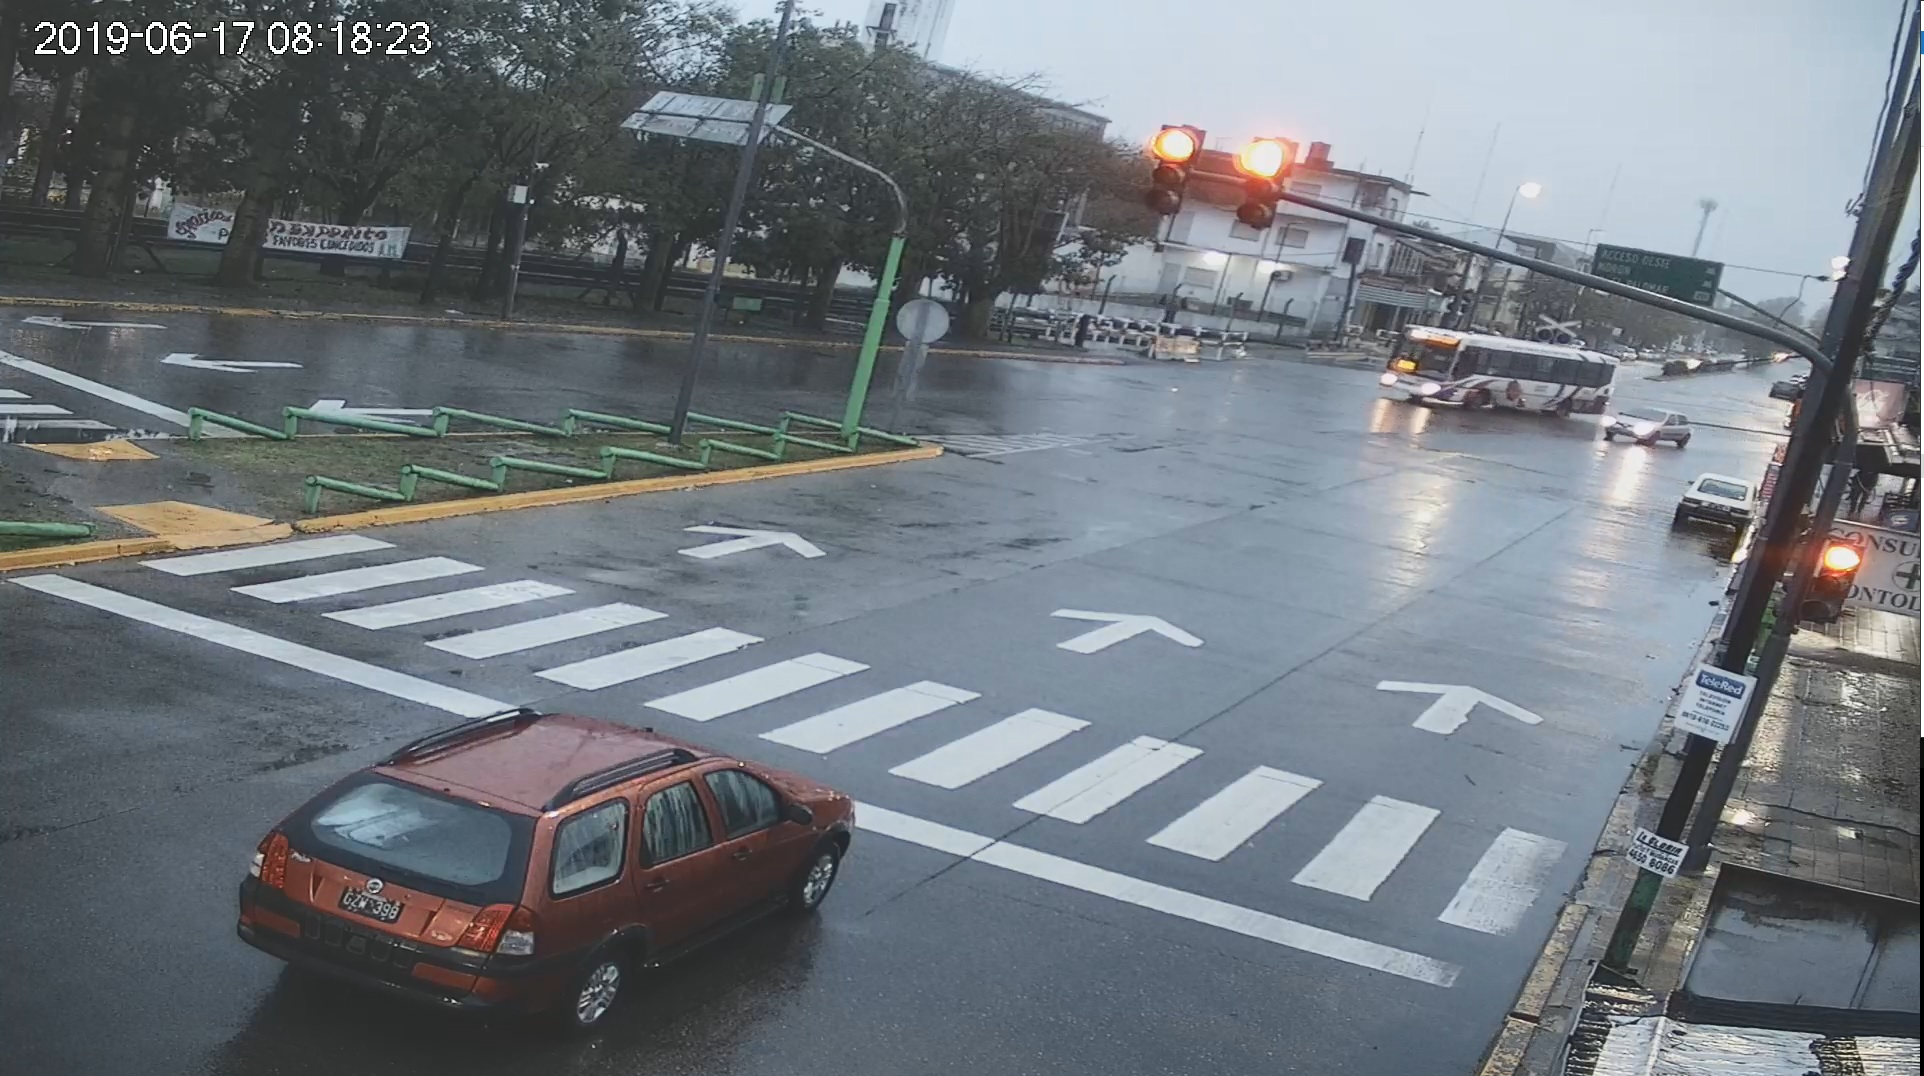bus: (1382, 311, 1619, 438)
car: (237, 703, 867, 1027), (1668, 467, 1757, 541), (1602, 403, 1699, 460)
